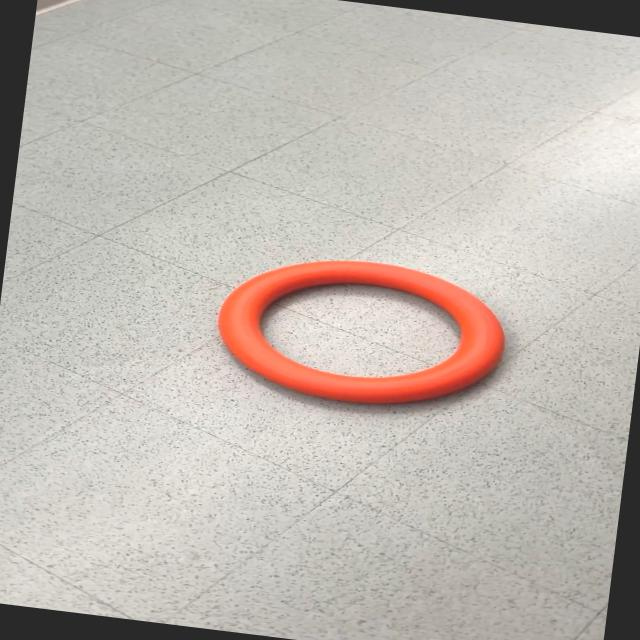note: (208, 242, 514, 421)
